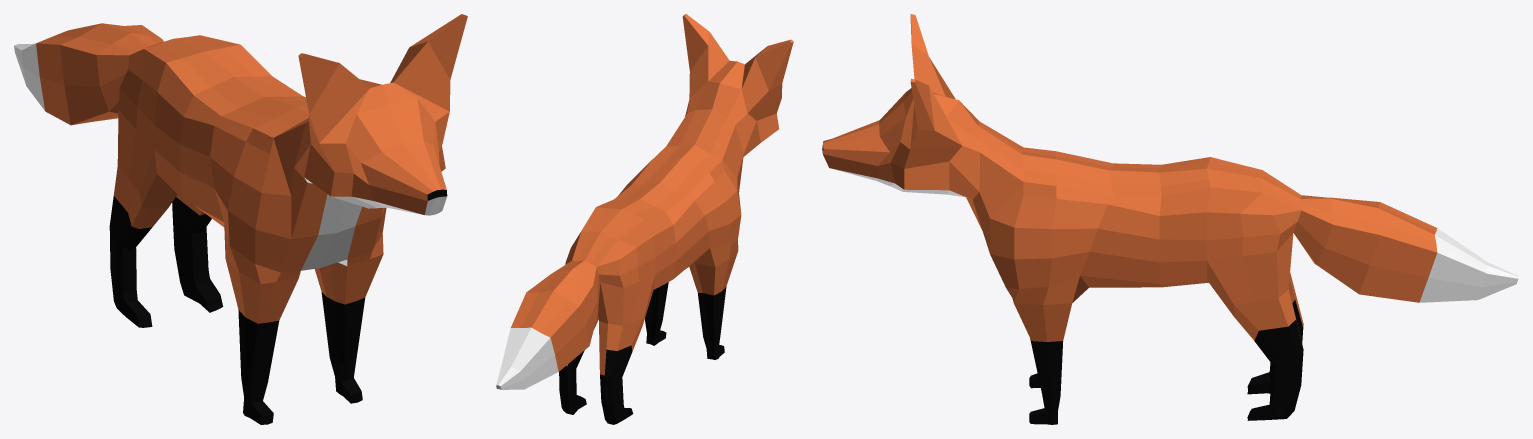
The model's file is asset.gltf.
3 views of the same model, side by side, from view 1: azimuth 30°, elevation 25°; view 2: azimuth 150°, elevation 25°; view 3: azimuth 270°, elevation 25° (orthographic). The views are drawn at different scales.
Visible parts, largest first — view 1: Cube; view 2: Cube; view 3: Cube.
Boxes of the visible parts, box(x1,y1,x2,y2) form: Cube: box(14, 14, 467, 424); Cube: box(496, 14, 793, 424); Cube: box(822, 14, 1518, 424).
Bounding box in the file's own units: 1.72 × 4.28 × 7.51.
